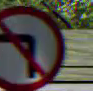Don't turn left: (1, 4, 68, 87)
